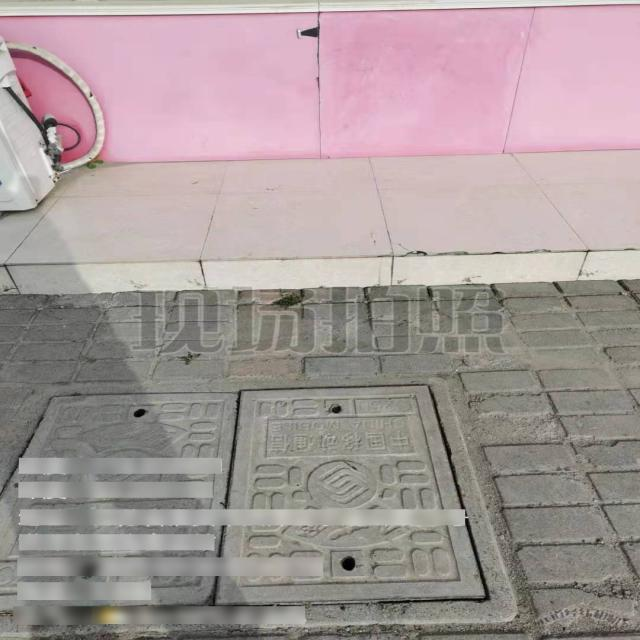Good: (0, 377, 517, 626)
